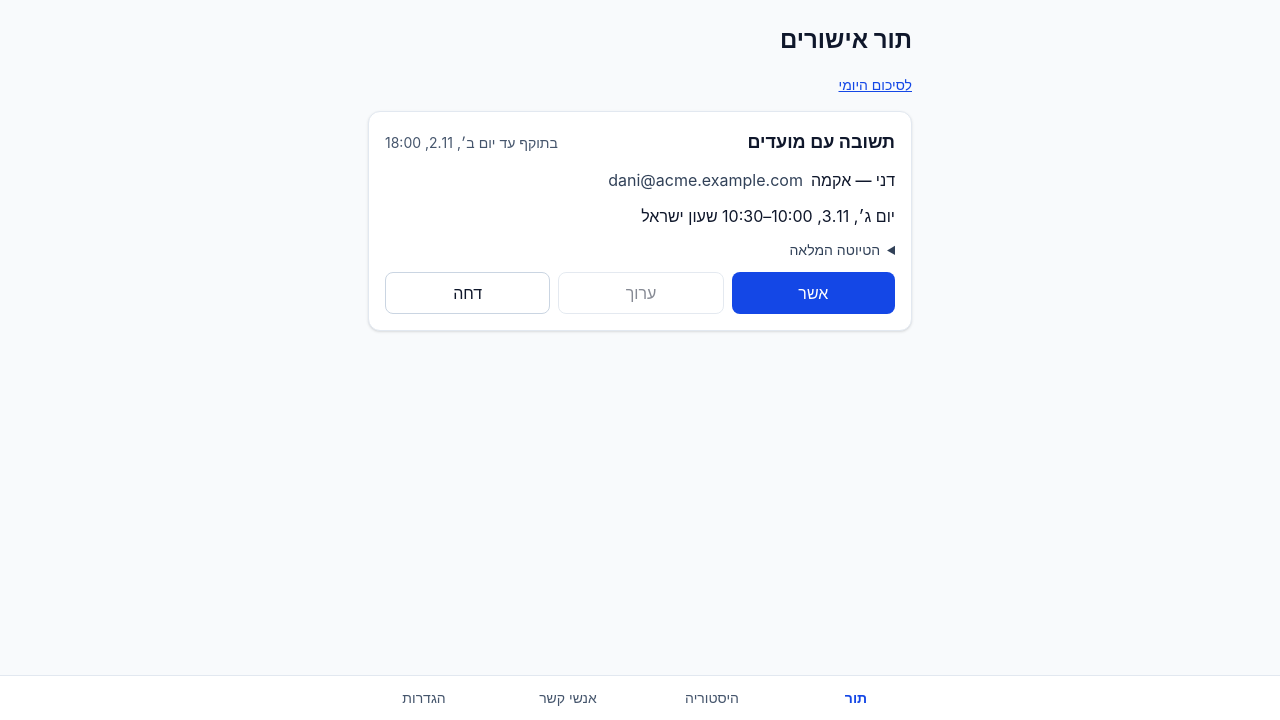
Scenario: approval queue › keeps the card and explains when the content changed (T3)
Click the button "אשר": {"x": 813, "y": 293} [732, 272, 895, 314]
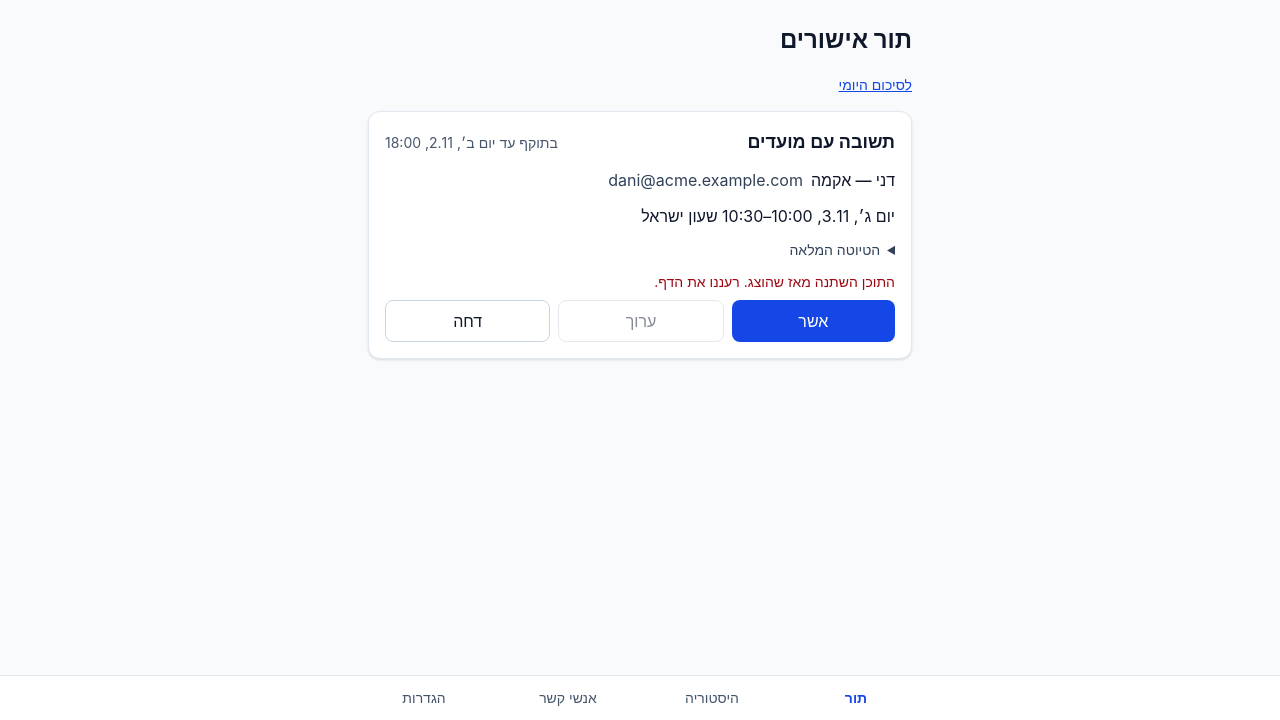
Check: the element that starts with "תשובה עם מועדים" is shown, box [368, 111, 912, 359]
Check: the message shows "התוכן השתנה", box [654, 273, 895, 290]
